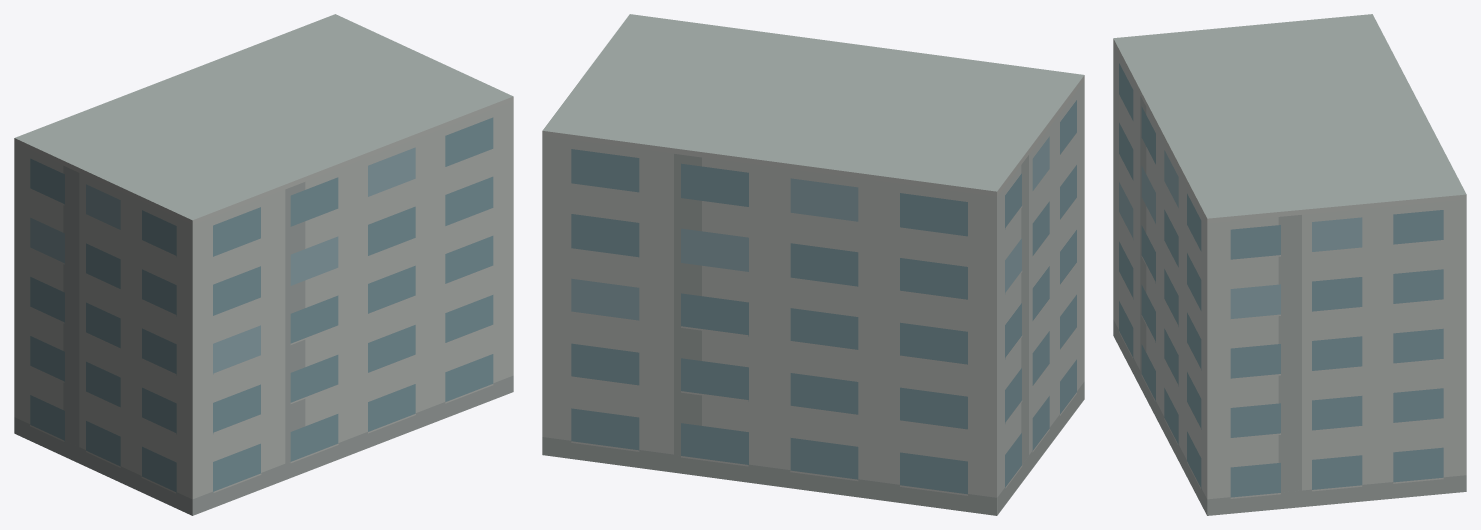
The model's file is residential-64741a5f-14d6-4b7a-babc-e90bdea9049c.glb.
The picture shows the model from 3 angles, left to right: view 1: azimuth 30°, elevation 25°; view 2: azimuth 150°, elevation 25°; view 3: azimuth 270°, elevation 25°; orthographic projection. The views are drawn at different scales.
Visible parts, largest first — view 1: residential-64741a5f-14d6-4b7a-babc-e90bdea9049c.tmp; view 2: residential-64741a5f-14d6-4b7a-babc-e90bdea9049c.tmp; view 3: residential-64741a5f-14d6-4b7a-babc-e90bdea9049c.tmp.
Boxes of the visible parts, <box> form: residential-64741a5f-14d6-4b7a-babc-e90bdea9049c.tmp: <box>14,14,513,515</box>; residential-64741a5f-14d6-4b7a-babc-e90bdea9049c.tmp: <box>542,14,1084,515</box>; residential-64741a5f-14d6-4b7a-babc-e90bdea9049c.tmp: <box>1113,14,1466,515</box>.
Bounding box in the file's own units: 21.56 × 14.6 × 15.74.
